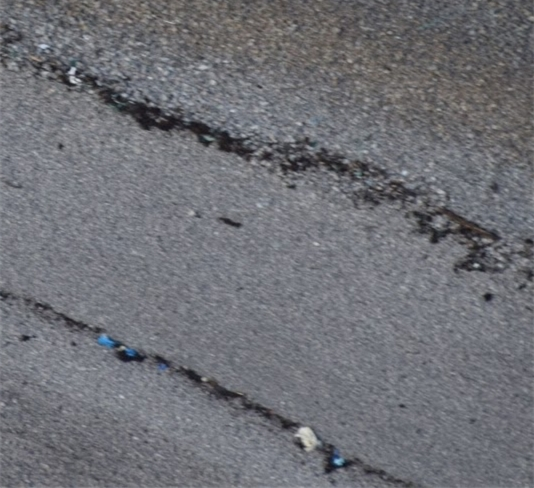scattered_barrel: (88, 326, 172, 376), (281, 419, 358, 472)
